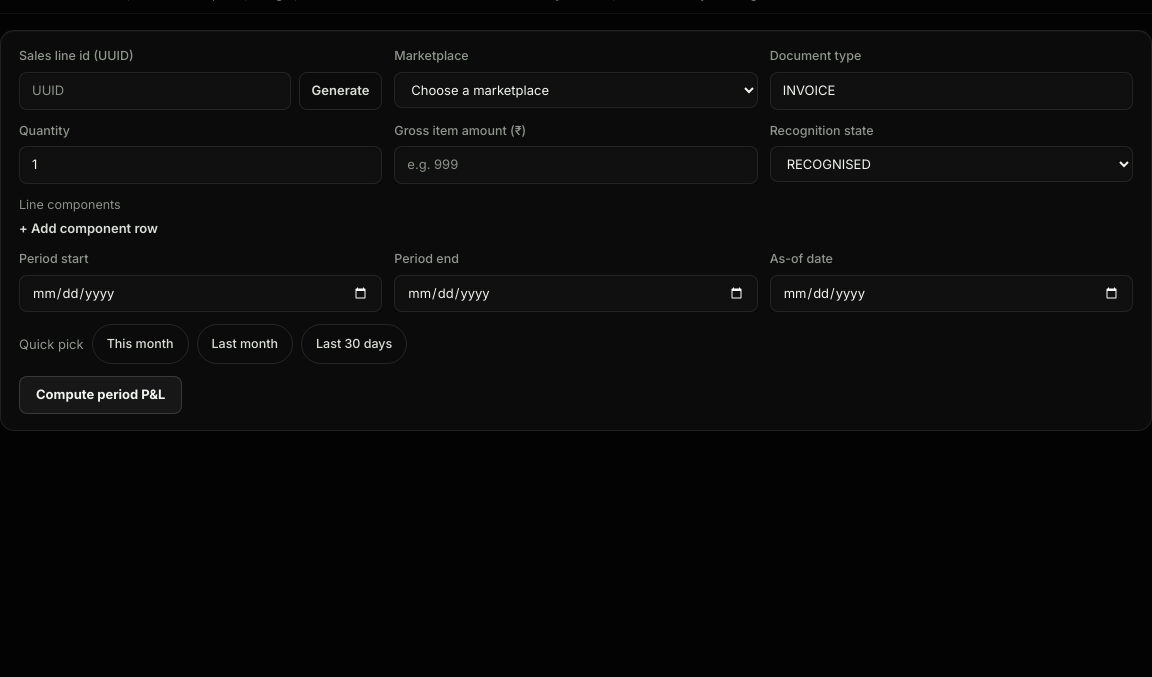
it: Period P&L advertising line (ST-01) › shows 'Not entered in this calculation' when advertising was not entered, never ₹0.00
Select "Amazon" in the dropdown labelled "Marketplace" at [576, 90], box top-left (394, 72), bottom-right (758, 108)
Type "999" into the field labelled "Gross item amount (₹)".
click(576, 165); type("999")  # box top-left (394, 146), bottom-right (758, 184)
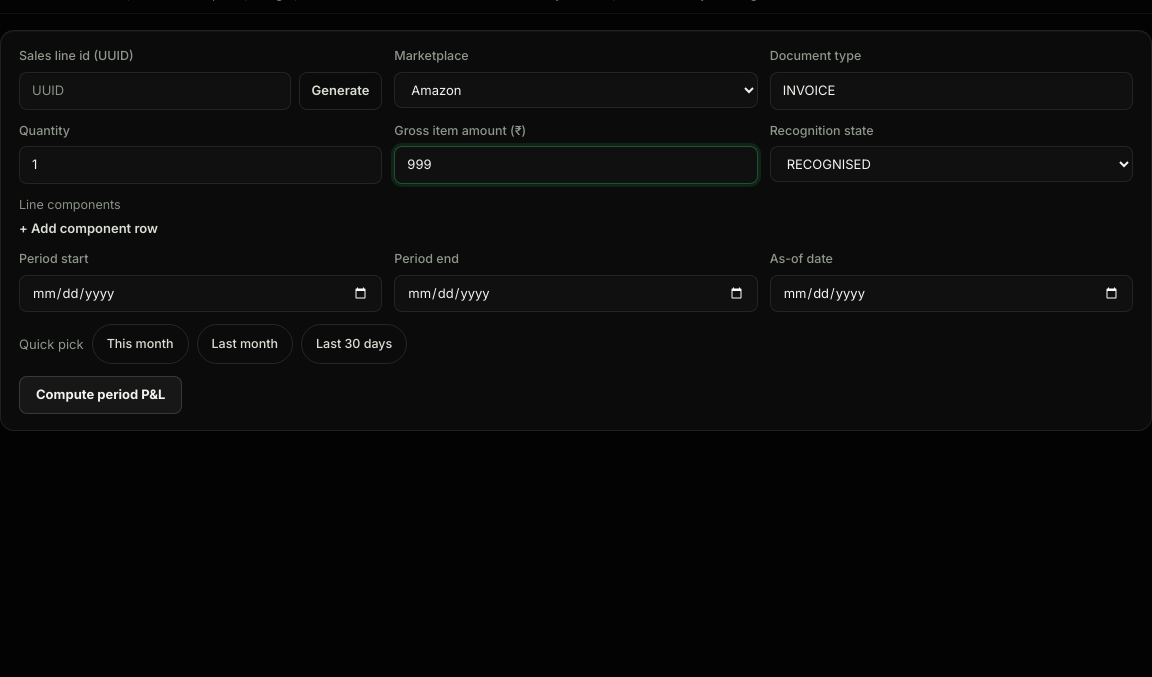
Type "7c1d3e50-0000-4000-8000-000000000003" into the field labelled "Sales line id (UUID)".
click(155, 91); type("7c1d3e50-0000-4000-8000-000000000003")  # box top-left (19, 72), bottom-right (291, 110)
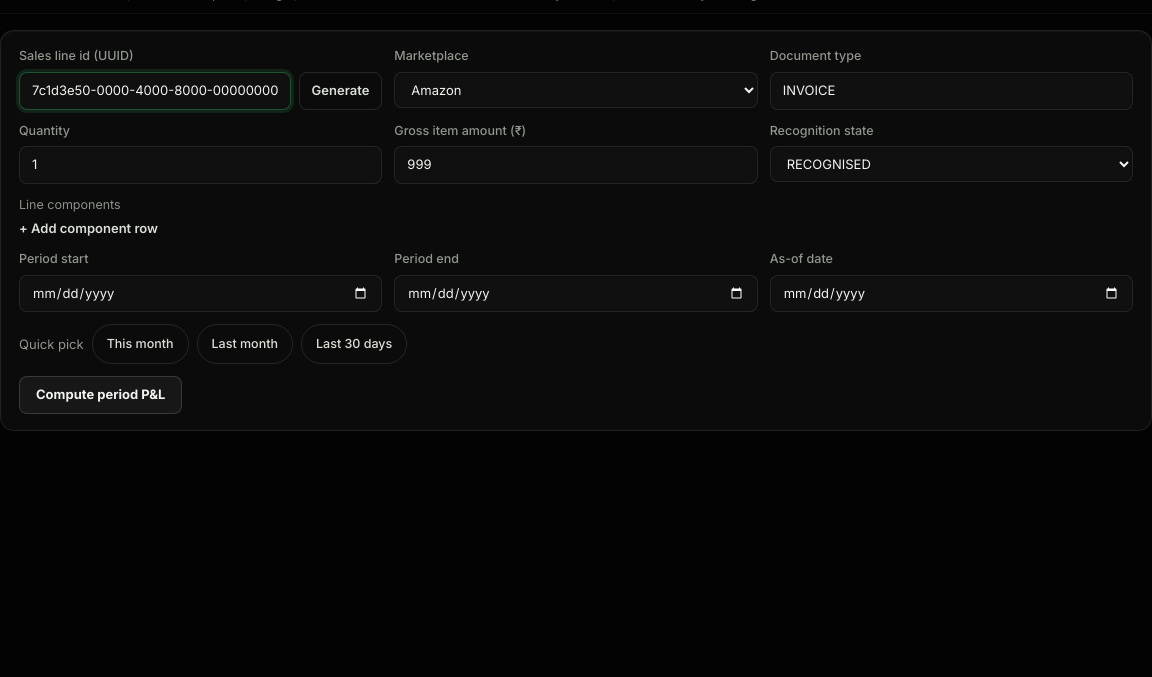
Type "2026-09-01" into the date field labelled "Period start".
click(201, 294); type("2026-09-01")  # box top-left (19, 275), bottom-right (382, 312)
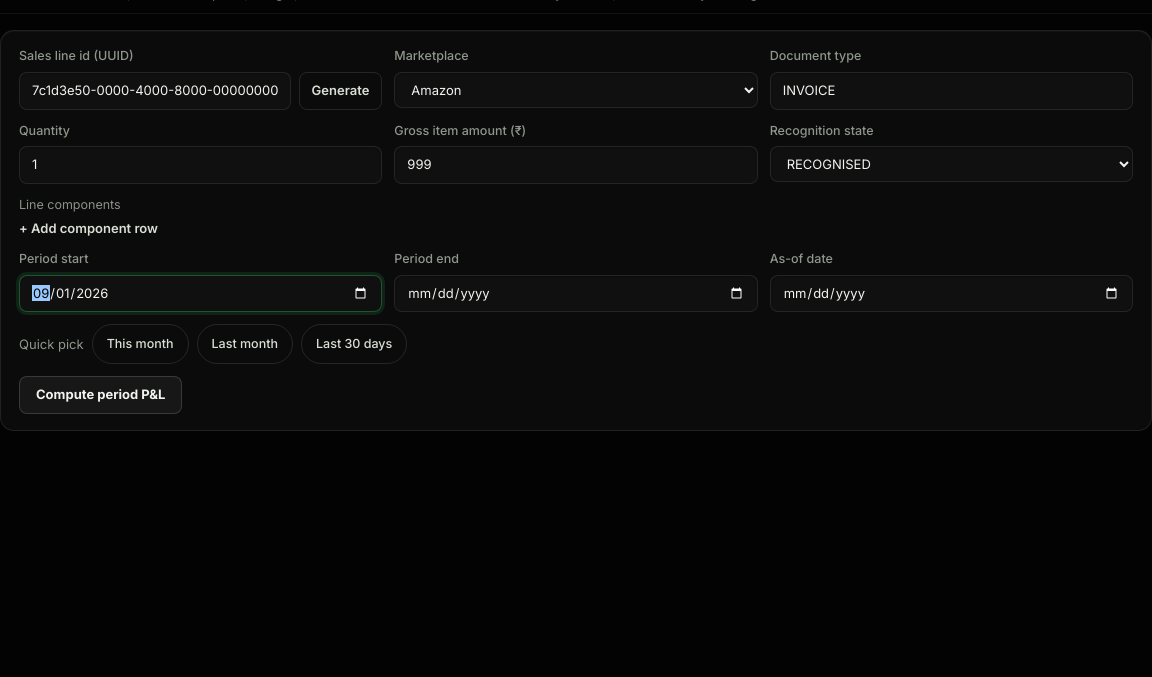
Type "2026-09-30" into the date field labelled "Period end".
click(576, 294); type("2026-09-30")  # box top-left (394, 275), bottom-right (758, 312)
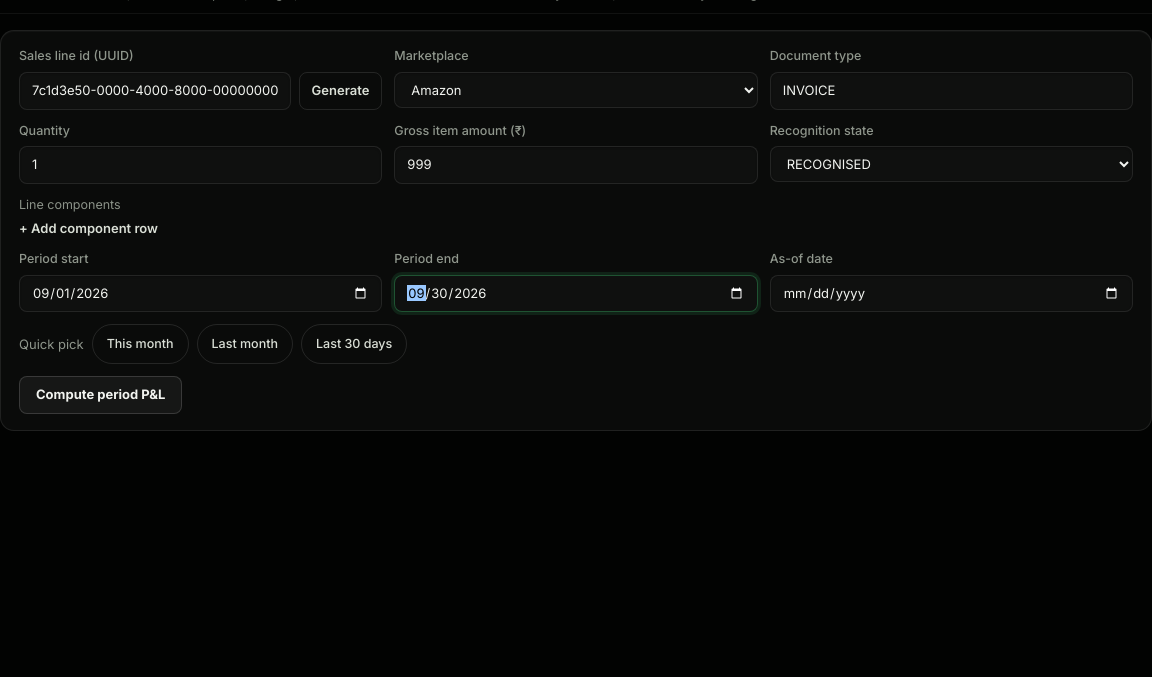
Type "2026-09-30" into the date field labelled "As-of date".
click(951, 294); type("2026-09-30")  # box top-left (770, 275), bottom-right (1133, 312)
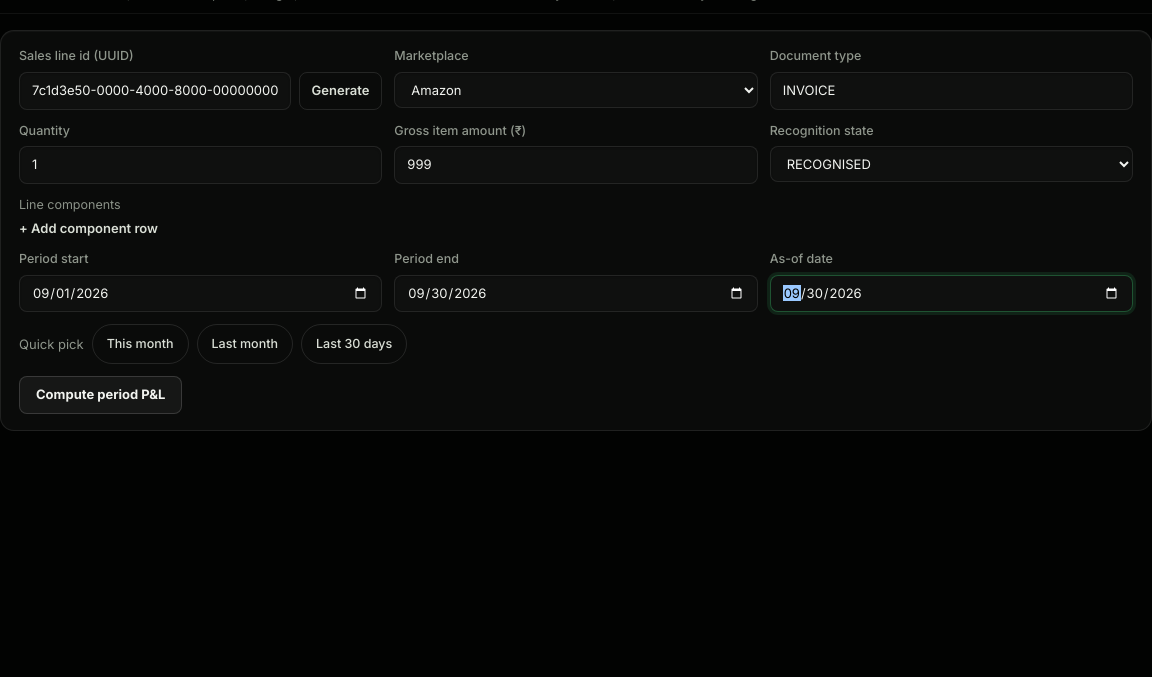
Click the button "Compute period P&L".
click(101, 395)  # box top-left (19, 376), bottom-right (182, 414)
(page scrolled)
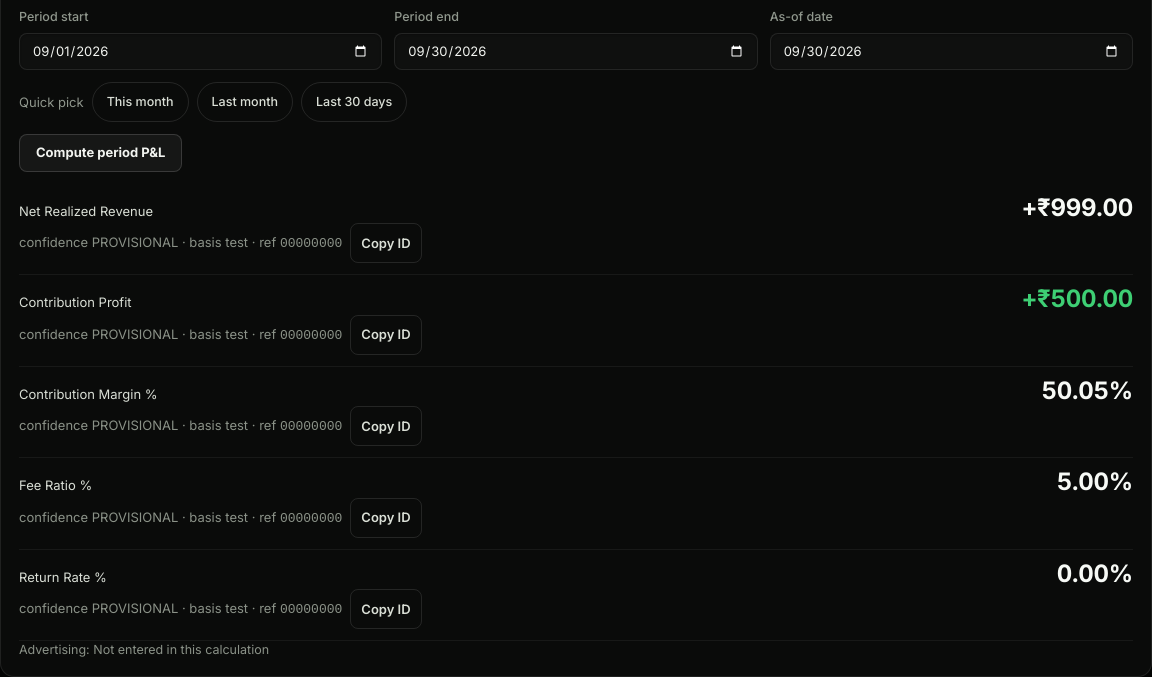
Expected: the text with test id "pnl-advertising" does not show "₹0.00", top-left (19, 642), bottom-right (269, 657)
Expected: the text "Contribution Profit" is shown, top-left (19, 294), bottom-right (132, 310)
Expected: the text with test id "pnl-advertising" reads "Advertising: Not entered in this calculation", top-left (19, 642), bottom-right (269, 657)
